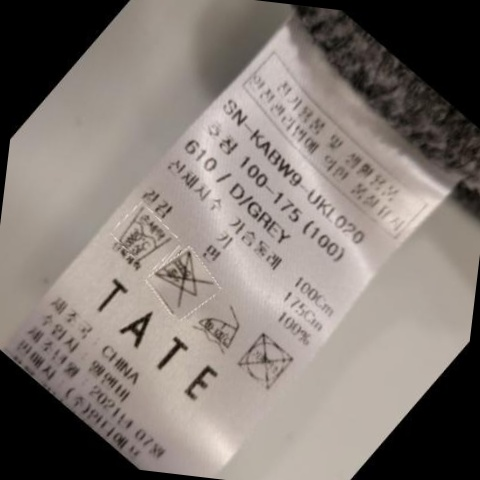DN_tumble_dry: (236, 333, 297, 396)
hand_wash: (112, 208, 172, 266)
iron_low: (193, 299, 247, 355)
non_chlorine_bleach: (154, 248, 215, 310)
